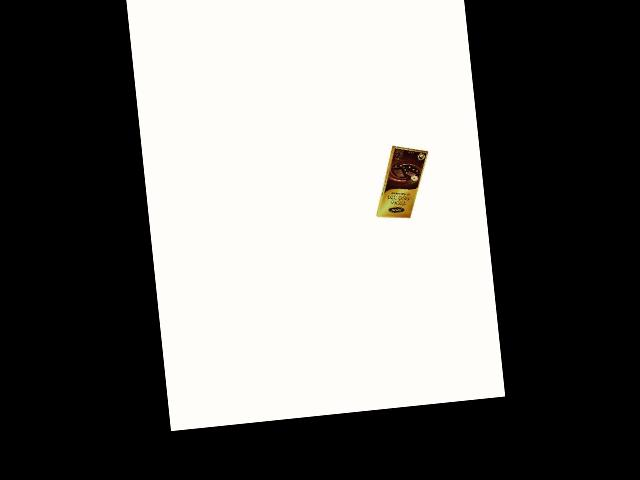chocolate: (366, 135, 434, 222)
